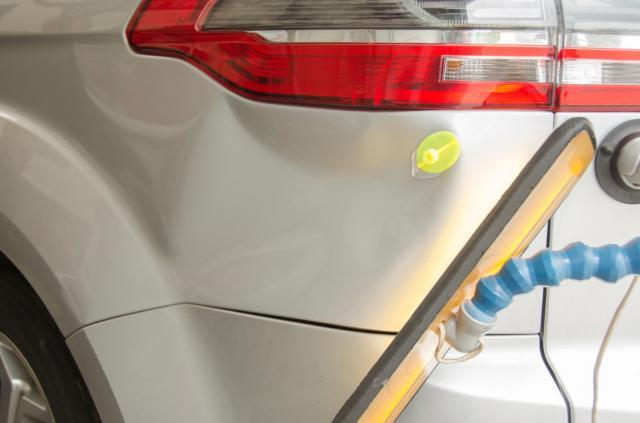dent: (173, 94, 460, 320)
